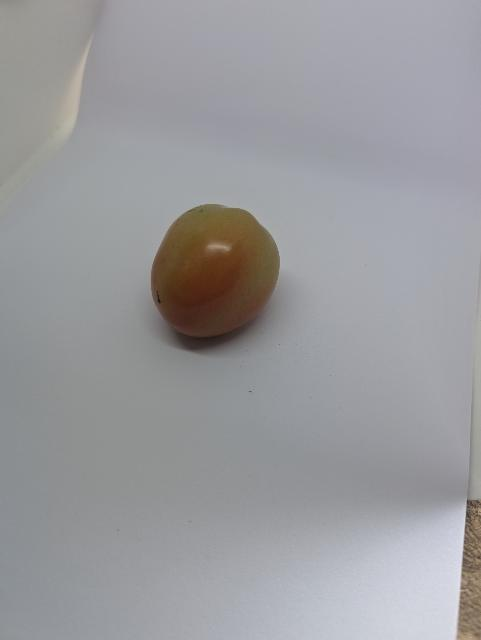turning: (144, 197, 288, 344)
